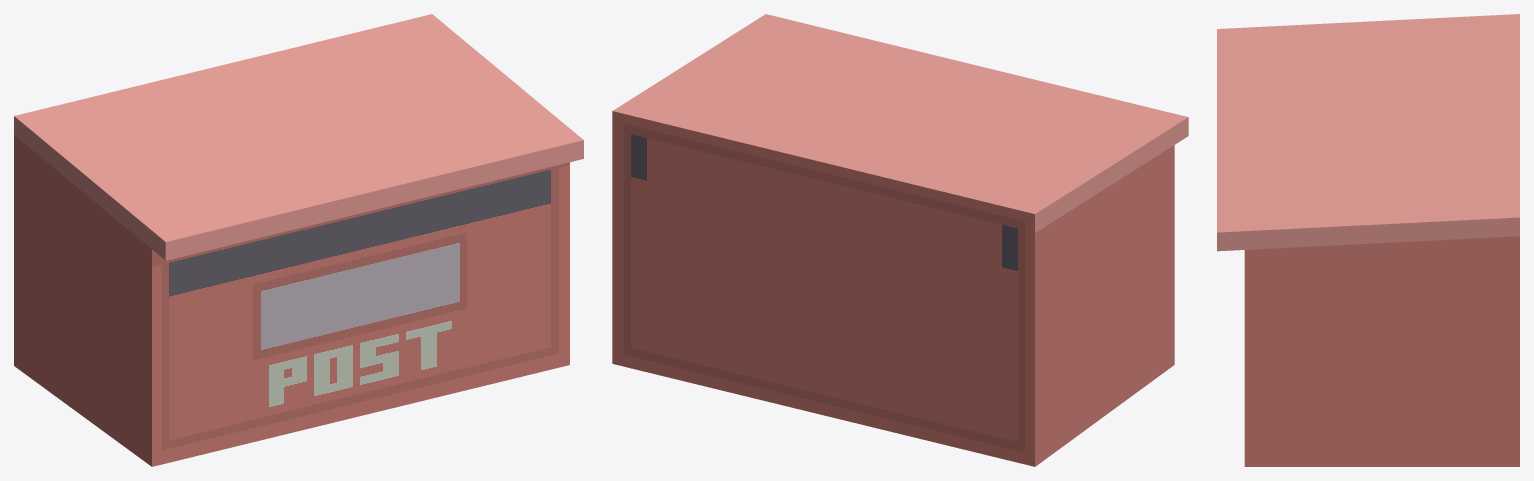
The model's file is 0021_Home_Mailbox.glb.
The picture shows the model from 3 angles, left to right: view 1: azimuth 30°, elevation 25°; view 2: azimuth 150°, elevation 25°; view 3: azimuth 270°, elevation 25°; orthographic projection.
Visible parts, largest first — view 1: part_0; view 2: part_0; view 3: part_0.
Boxes of the visible parts, <box> form: part_0: <box>14,14,583,466</box>; part_0: <box>612,14,1188,466</box>; part_0: <box>1217,14,1519,466</box>.
Size of the model in its own units: 0.35 by 0.2 by 0.22.
Materials: 1 (1 with a texture image).
